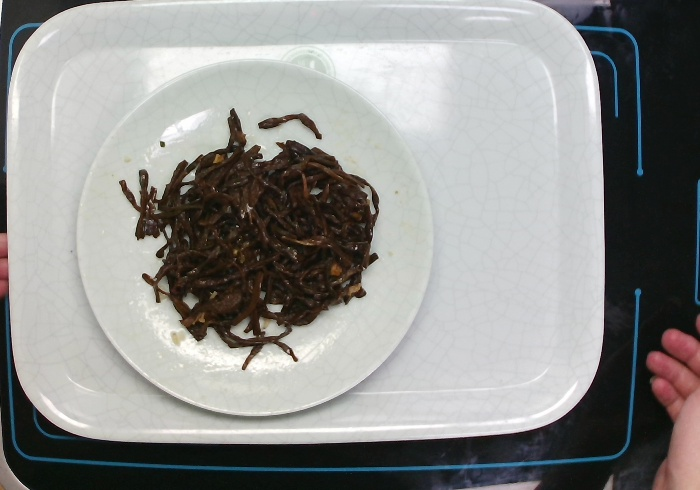JYsf-Da_Yuan_Pan: (69, 51, 441, 422)
